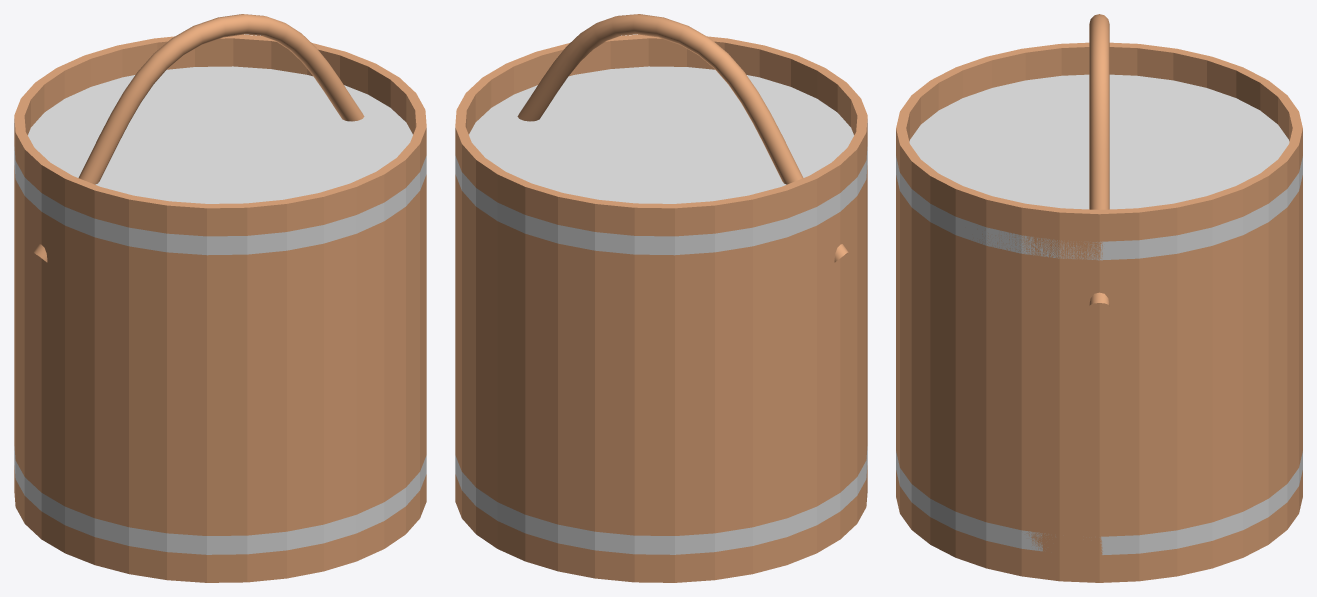
Rendered from sauna-bucket-grok.glb.
The picture shows the model from 3 angles, left to right: view 1: azimuth 30°, elevation 25°; view 2: azimuth 150°, elevation 25°; view 3: azimuth 270°, elevation 25°; orthographic projection.
Parts seen in each view (by area): view 1: Bucket, Cylinder.001, BézierCurve, Cylinder; view 2: Bucket, Cylinder.001, BézierCurve, Cylinder; view 3: Bucket, Cylinder.001, Cylinder, BézierCurve.
Part boxes in pixels (box(x1,y1,x2,y2)): Bucket: box(14, 34, 426, 582); Cylinder.001: box(14, 66, 426, 255); BézierCurve: box(33, 14, 364, 262); Cylinder: box(14, 446, 426, 554); Bucket: box(455, 34, 867, 582); Cylinder.001: box(455, 66, 867, 255); BézierCurve: box(517, 14, 848, 262); Cylinder: box(455, 446, 867, 554); Bucket: box(896, 42, 1302, 582); Cylinder.001: box(896, 74, 1302, 260); Cylinder: box(896, 451, 1302, 554); BézierCurve: box(1089, 14, 1109, 306).
Bounding box in the file's own units: 2.07 × 2.55 × 2.
